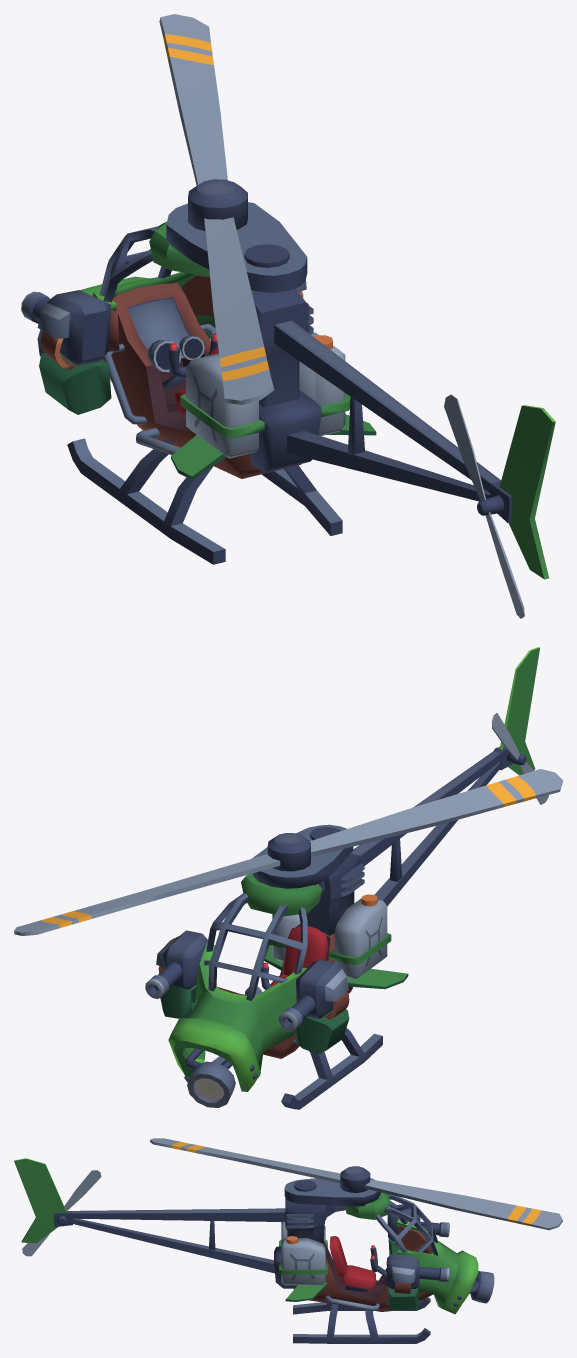
Rendered from heli.fbx.
3 views of the same model, one above another, from view 1: azimuth 30°, elevation 25°; view 2: azimuth 150°, elevation 25°; view 3: azimuth 270°, elevation 25° (orthographic). The views are drawn at different scales.
Parts seen in each view (by area): view 1: Prop big.003, Pilot Place, Tail 1.003, Stand L, Tail Green, Chain, Fuel L, Tail 1.004, Gun Base.001, Motor, Motor Support, Ammo Box (+12 smaller); view 2: Prop big.003, Base, Cabin, Fuel L, Motor, Stand L, Tail Green, Chain, Gun Base.001, Roof, Tail 1.003, Tail 1.004 (+11 smaller); view 3: Prop big.003, Base, Tail 1.003, Tail Green, Tail 1.004, Pilot Place, Fuel L.001, Stand R, Chain, Cabin, Motor, Gun Base (+14 smaller).
Boxes of the visible parts, left/top/right/bottom form: Prop big.003: left=159, top=14, right=274, bottom=404; Pilot Place: left=102, top=282, right=301, bottom=478; Tail 1.003: left=274, top=320, right=512, bottom=522; Stand L: left=67, top=438, right=225, bottom=564; Tail Green: left=499, top=405, right=555, bottom=579; Chain: left=166, top=202, right=307, bottom=292; Fuel L: left=186, top=353, right=258, bottom=458; Tail 1.004: left=286, top=430, right=490, bottom=501; Gun Base.001: left=37, top=290, right=111, bottom=365; Motor: left=251, top=288, right=313, bottom=407; Motor Support: left=250, top=390, right=321, bottom=472; Ammo Box: left=39, top=352, right=111, bottom=414; Prop big.003: left=14, top=769, right=562, bottom=935; Base: left=168, top=942, right=307, bottom=1091; Cabin: left=204, top=893, right=307, bottom=1000; Fuel L: left=334, top=898, right=387, bottom=979; Motor: left=306, top=853, right=364, bottom=935; Stand L: left=281, top=1028, right=382, bottom=1109; Tail Green: left=499, top=647, right=539, bottom=775; Chain: left=252, top=824, right=353, bottom=888; Gun Base.001: left=296, top=959, right=348, bottom=1018; Roof: left=241, top=873, right=322, bottom=916; Tail 1.003: left=351, top=746, right=512, bottom=865; Tail 1.004: left=374, top=762, right=500, bottom=906; Prop big.003: left=150, top=1138, right=562, bottom=1230; Base: left=397, top=1219, right=478, bottom=1314; Tail 1.003: left=53, top=1208, right=285, bottom=1226; Tail Green: left=14, top=1158, right=66, bottom=1243; Tail 1.004: left=72, top=1218, right=274, bottom=1273; Pilot Place: left=293, top=1241, right=433, bottom=1311; Fuel L.001: left=281, top=1238, right=325, bottom=1285; Stand R: left=293, top=1303, right=430, bottom=1343; Chain: left=284, top=1178, right=380, bottom=1206; Cabin: left=376, top=1194, right=437, bottom=1255; Motor: left=285, top=1198, right=325, bottom=1244; Gun Base: left=386, top=1253, right=419, bottom=1289.
Bounding box in the file's own units: 541 × 471 × 1392.
